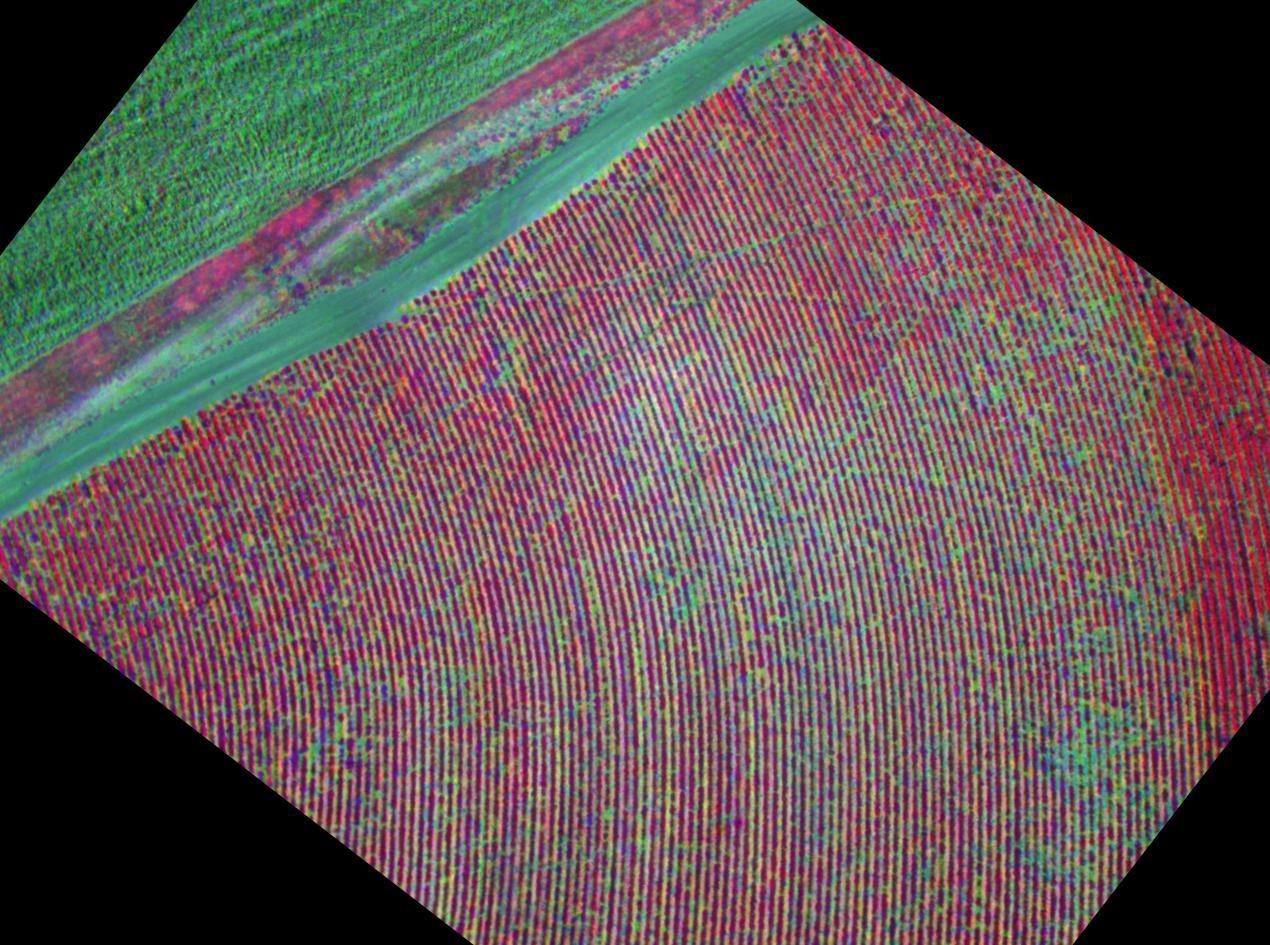dc: (310, 745, 315, 750), (448, 494, 452, 499), (792, 512, 796, 517), (1082, 451, 1086, 455), (593, 605, 597, 609), (402, 680, 406, 684), (1051, 341, 1054, 346), (1157, 455, 1160, 460), (198, 493, 201, 497)
